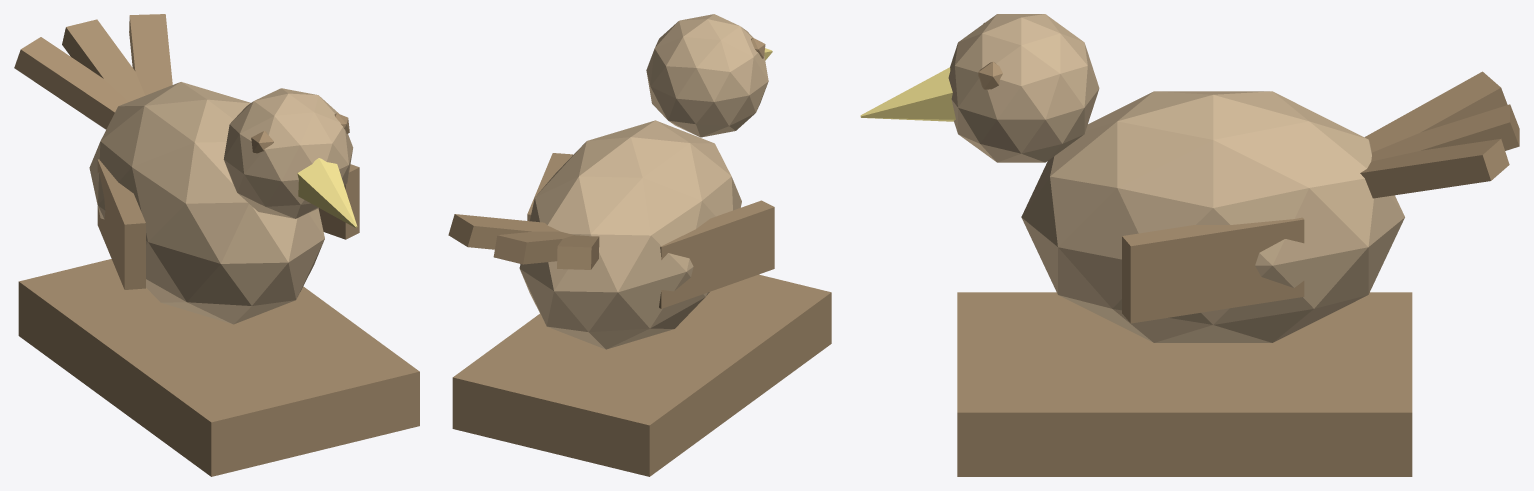
Rendered from 18-Casas_decor_estatuilla_ave.glb.
The picture shows the model from 3 angles, left to right: view 1: azimuth 30°, elevation 25°; view 2: azimuth 150°, elevation 25°; view 3: azimuth 270°, elevation 25°; orthographic projection. The views are drawn at different scales.
Visible parts, largest first — view 1: SM_Ave_Base, SM_Ave_Cuerpo, SM_Ave_Cabeza, SM_Ave_Pluma, SM_Ave_Ala, SM_Ave_Pluma.001, SM_Ave_Pluma.002, SM_Ave_Pico, SM_Ave_Ala.001; view 2: SM_Ave_Base, SM_Ave_Cuerpo, SM_Ave_Cabeza, SM_Ave_Ala, SM_Ave_Pluma.002, SM_Ave_Pluma.001, SM_Ave_Pluma, SM_Ave_Ala.001; view 3: SM_Ave_Base, SM_Ave_Cuerpo, SM_Ave_Cabeza, SM_Ave_Ala.001, SM_Ave_Pluma.002, SM_Ave_Pluma, SM_Ave_Pluma.001, SM_Ave_Pico.
Part boxes in pixels (bbox=[...]): SM_Ave_Base: bbox=[18, 259, 419, 476]; SM_Ave_Cuerpo: bbox=[89, 82, 324, 324]; SM_Ave_Cabeza: bbox=[223, 88, 353, 218]; SM_Ave_Pluma: bbox=[14, 37, 128, 129]; SM_Ave_Ala: bbox=[97, 159, 145, 289]; SM_Ave_Pluma.001: bbox=[62, 19, 144, 101]; SM_Ave_Pluma.002: bbox=[129, 14, 172, 95]; SM_Ave_Pico: bbox=[297, 158, 357, 227]; SM_Ave_Ala.001: bbox=[318, 164, 359, 239]; SM_Ave_Base: bbox=[452, 274, 831, 476]; SM_Ave_Cuerpo: bbox=[519, 120, 741, 349]; SM_Ave_Cabeza: bbox=[646, 14, 768, 137]; SM_Ave_Ala: bbox=[659, 200, 774, 308]; SM_Ave_Pluma.002: bbox=[448, 214, 559, 249]; SM_Ave_Pluma.001: bbox=[493, 231, 573, 264]; SM_Ave_Pluma: bbox=[557, 235, 599, 269]; SM_Ave_Ala.001: bbox=[527, 153, 572, 221]; SM_Ave_Base: bbox=[957, 292, 1412, 476]; SM_Ave_Cuerpo: bbox=[1021, 91, 1404, 342]; SM_Ave_Cabeza: bbox=[948, 14, 1099, 162]; SM_Ave_Ala.001: bbox=[1122, 217, 1304, 323]; SM_Ave_Pluma.002: bbox=[1360, 139, 1509, 198]; SM_Ave_Pluma: bbox=[1364, 71, 1507, 152]; SM_Ave_Pluma.001: bbox=[1371, 104, 1519, 161]; SM_Ave_Pico: bbox=[860, 67, 955, 121].
Bounding box in the file's own units: 0.2255 × 0.31 × 0.4636.
